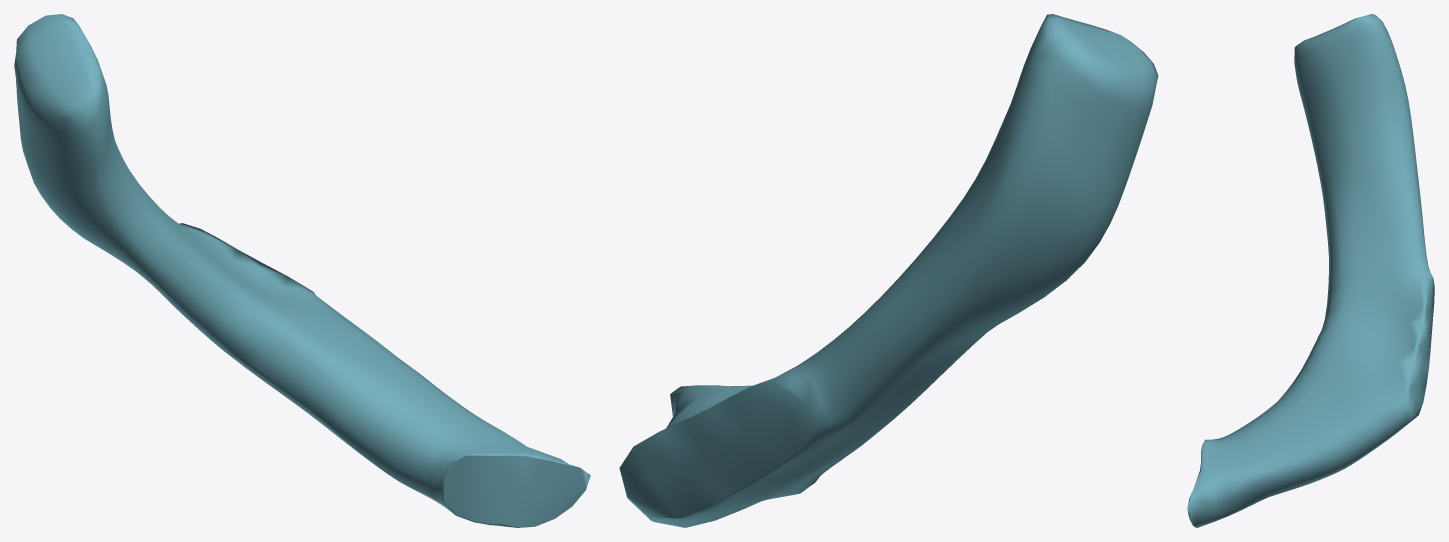
3 views of the same model, side by side, from view 1: azimuth 30°, elevation 25°; view 2: azimuth 150°, elevation 25°; view 3: azimuth 270°, elevation 25° (orthographic). The views are drawn at different scales.
Visible parts, largest first — view 1: 右侧第九肋软骨; view 2: 右侧第九肋软骨; view 3: 右侧第九肋软骨.
Boxes of the visible parts, x1,y1,x2,y2 form: 右侧第九肋软骨: (14,14,590,527); 右侧第九肋软骨: (619,14,1158,527); 右侧第九肋软骨: (1187,14,1434,527).
Size of the model in its own units: 0.0911 by 0.0983 by 0.058.
